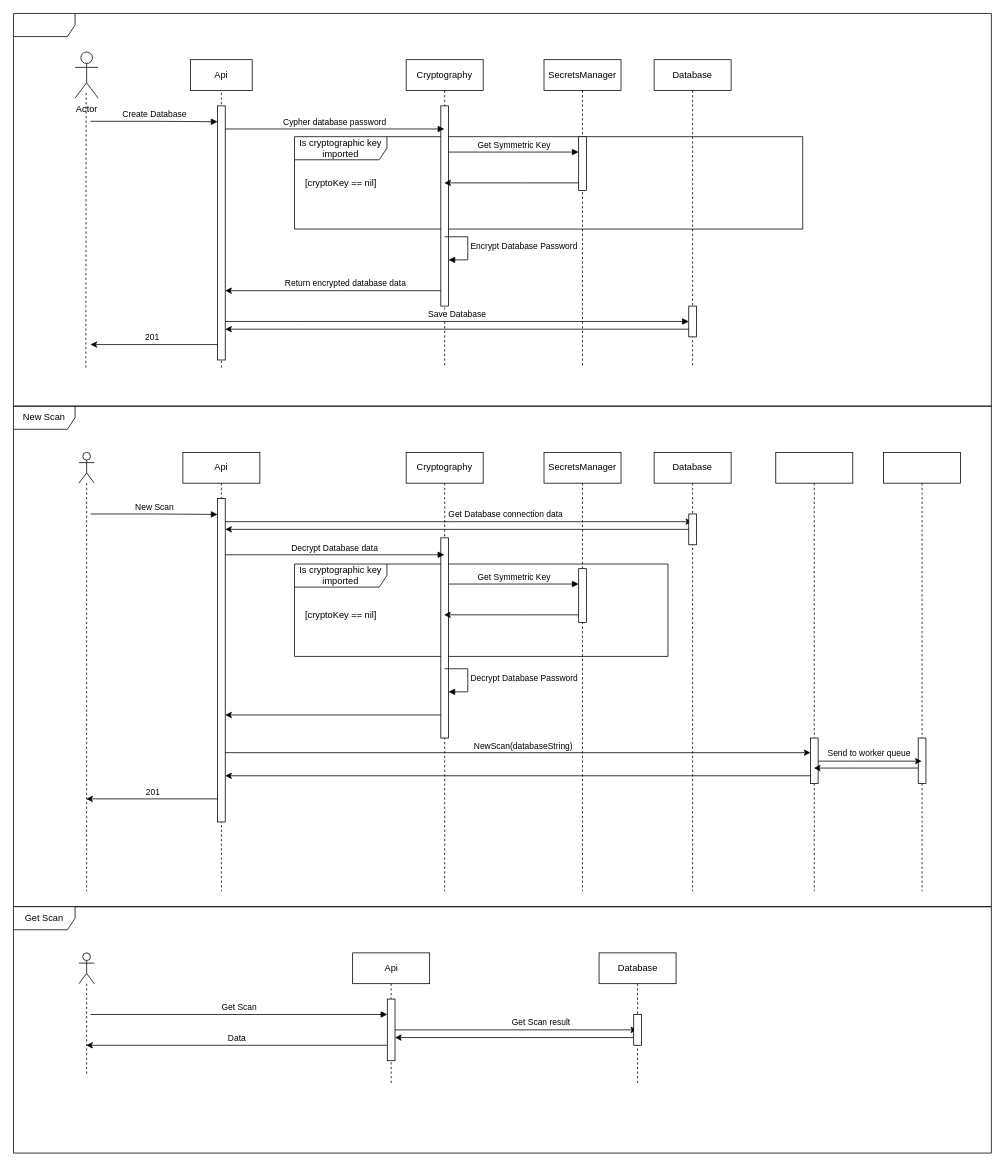
Some shapes in this 1005 by 1167 pixel diagram are drawn without their labels. The shapes that lost their labels are listed below. From the top down, each one's box as (x1, y1, x2, y2) in pixels, then its label:
(13, 13, 991, 406): New Database
(775, 452, 853, 891): Scanner
(883, 452, 961, 891): SQS
